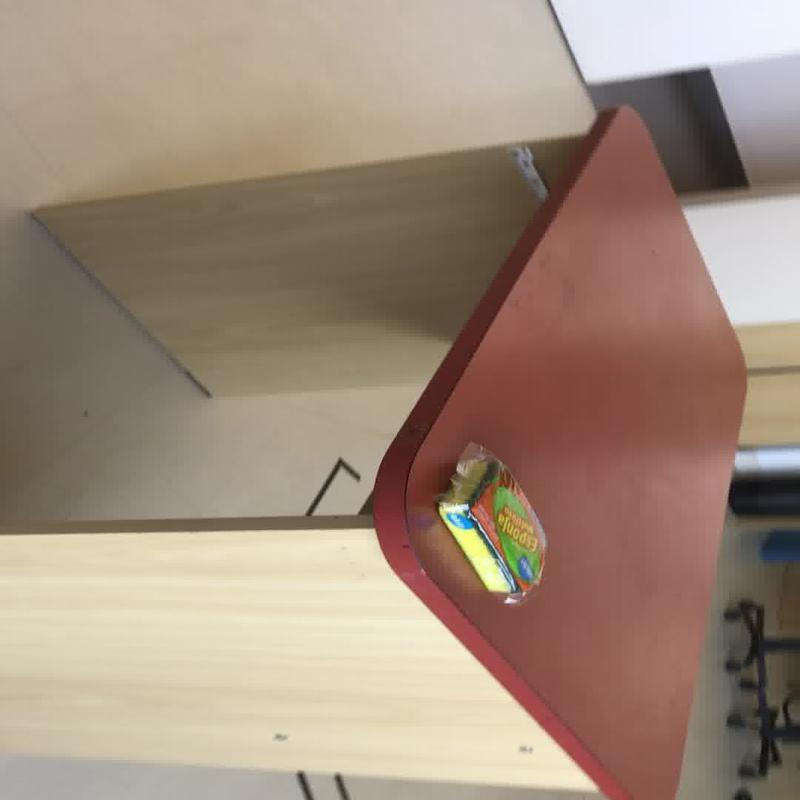sponge: (362, 102, 748, 798), (434, 440, 548, 604)
